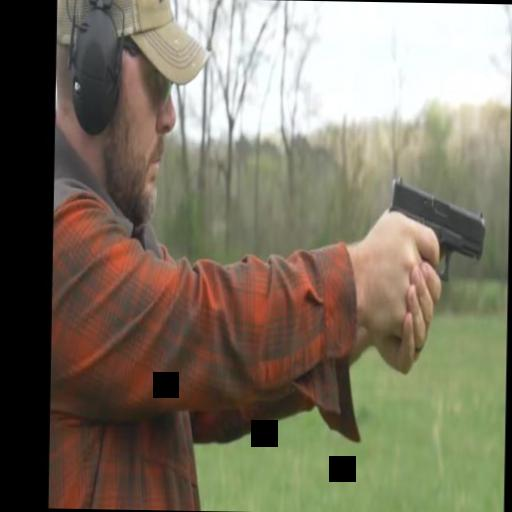Handgun: (385, 176, 488, 337)
